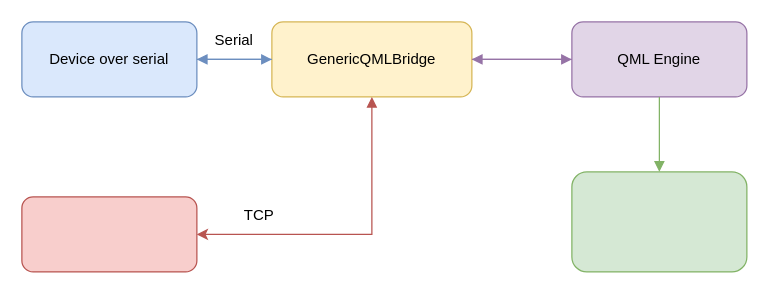
Some shapes in this 769 by 294 pixel diagram are drawn without their labels. Each missing label, with the centre of its shape:
"Dashboard UI - Temperature - Pressure - Pumps - Alarms" goes at pixel 659 221.
"Device over TCP" goes at pixel 109 234.
